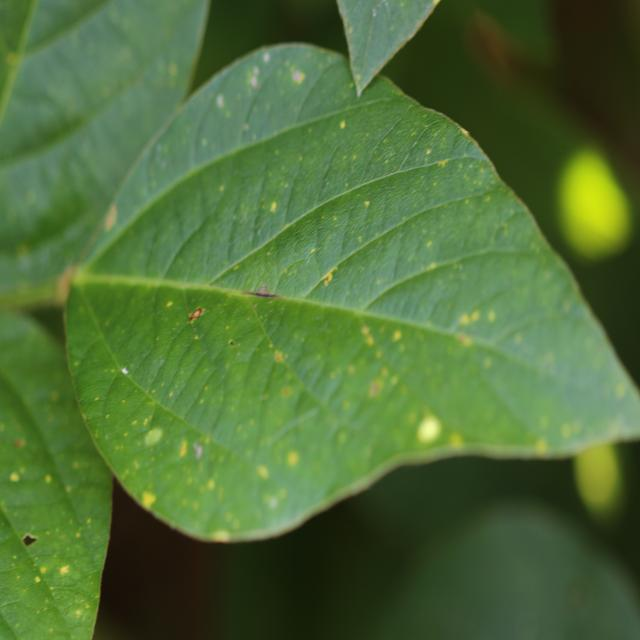Soybean: (54, 0, 640, 547)
downey_mildew: (375, 243, 601, 355), (390, 319, 565, 444), (159, 280, 432, 350), (159, 446, 289, 534), (2, 446, 89, 559), (4, 0, 120, 73), (327, 154, 477, 210), (449, 419, 635, 461), (0, 305, 64, 427), (0, 0, 46, 169), (368, 252, 491, 313), (246, 294, 313, 404), (8, 90, 106, 164), (302, 106, 377, 202), (135, 311, 206, 408), (61, 192, 127, 293), (242, 139, 290, 270), (180, 59, 232, 175), (297, 460, 401, 516), (71, 271, 229, 307), (375, 111, 453, 182), (169, 1, 213, 115), (176, 312, 240, 389), (37, 559, 106, 626), (207, 364, 269, 436), (469, 11, 528, 84), (99, 359, 157, 429), (90, 477, 115, 636), (0, 488, 34, 598), (262, 401, 329, 454), (1, 272, 76, 317), (22, 296, 72, 352), (362, 346, 407, 407), (356, 0, 385, 88), (303, 260, 358, 305), (297, 234, 327, 278), (566, 574, 591, 612), (249, 206, 263, 261), (352, 72, 367, 98), (371, 1, 389, 21), (104, 205, 117, 231), (141, 491, 156, 508), (320, 175, 332, 193), (449, 432, 463, 447), (369, 381, 381, 397), (192, 442, 203, 459), (179, 440, 188, 459), (257, 465, 269, 479), (17, 244, 28, 258), (459, 126, 471, 138), (13, 438, 25, 449), (6, 53, 16, 66), (158, 155, 167, 169), (168, 63, 177, 77), (250, 76, 258, 89), (207, 479, 215, 490), (428, 262, 437, 271), (228, 339, 237, 347), (263, 52, 270, 62), (339, 120, 346, 129), (355, 74, 361, 84), (426, 240, 433, 248), (372, 8, 377, 18), (158, 358, 165, 365), (310, 247, 316, 255), (332, 215, 338, 222), (49, 627, 54, 633), (105, 413, 110, 419), (94, 397, 99, 402), (194, 335, 199, 340)
